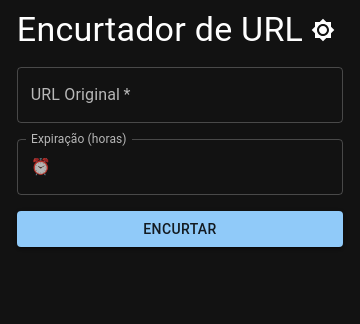
App Component › deve exibir uma mensagem de erro quando a API falhar
Type "https://www.example.com" into the field labelled "URL Original *" at coordinates (180, 95), box x1=17 y1=67 x2=343 y2=123
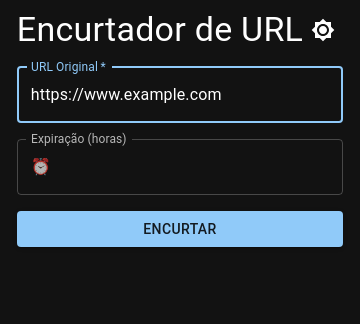
Type "24" into the number field labelled "Expiração (horas)" at coordinates (201, 167), box x1=59 y1=139 x2=343 y2=195
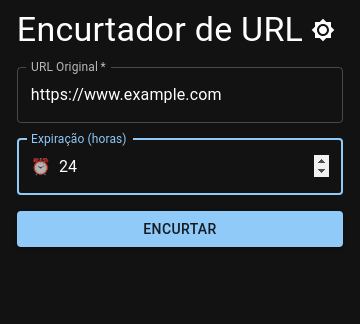
Click the button "Encurtar" at coordinates (180, 229), box x1=17 y1=211 x2=343 y2=247
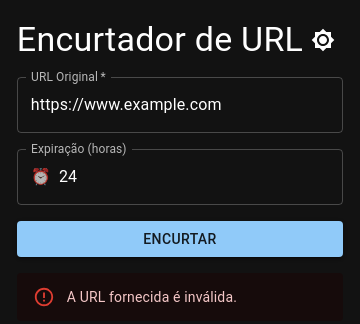
expect the text "A URL fornecida é inválida." is shown: met, box x1=67 y1=289 x2=237 y2=305
